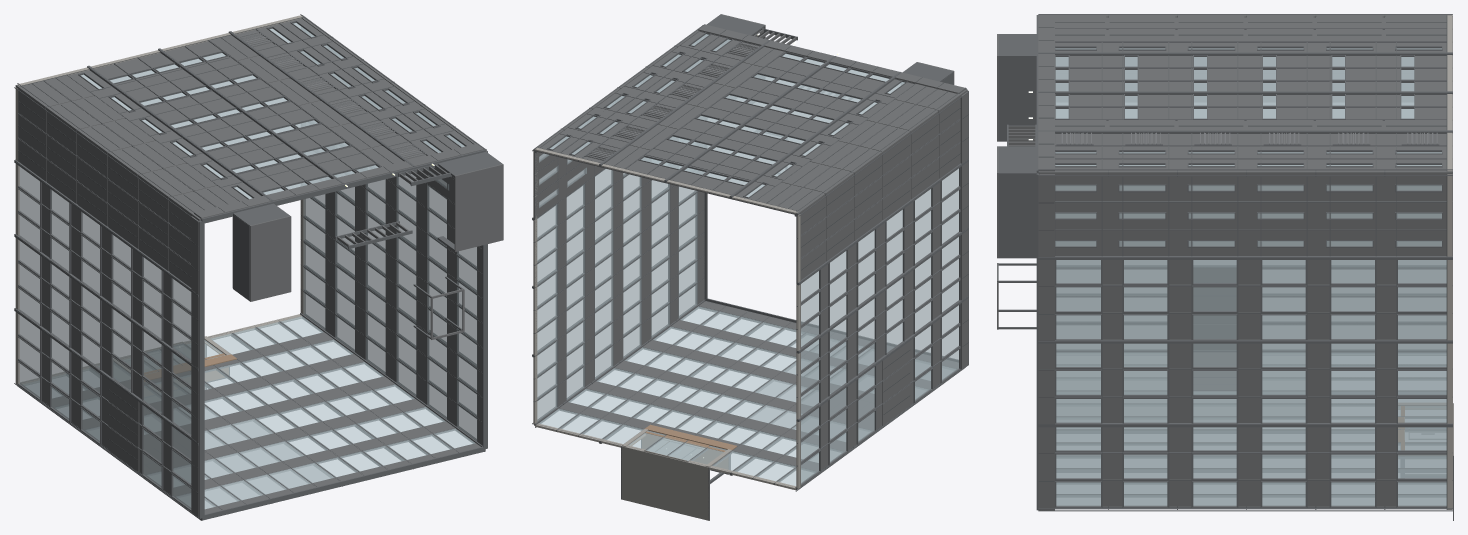
The model's file is equity-uprise-facade-core-v2.glb.
3 renders of one model, left to right at view 1: azimuth 30°, elevation 25°; view 2: azimuth 150°, elevation 25°; view 3: azimuth 270°, elevation 25°, orthographic. The views are drawn at different scales.
Parts seen in each view (by area): view 1: FAC-CROWN-HEADHOUSE-TRIM-A-01::cap, FAC-CROWN-HEADHOUSE-TRIM-B-01::cap, FAC-CROWN-BAND-FINISH-WEST-01::main, FAC-CROWN-BAND-FINISH-NORTH-01::main, FAC-PARAPET-CAP-WEST-01, FAC-PARAPET-CAP-SOUTH-01, FAC-PARAPET-CAP-NORTH-01, FAC-CROWN-HEADHOUSE-TRIM-B-01::west, FAC-BASE-PLINTH-WEST-01, FAC-PARAPET-CAP-EAST-01, FAC-CORNER-FINISH-NW-01::pier, FAC-BASE-PLINTH-NORTH-01 (+44 smaller); view 2: FAC-SITE-APRON-01, FAC-CROWN-BAND-FINISH-WEST-01::main, FAC-CROWN-BAND-FINISH-NORTH-01::main, FAC-BASE-PLINTH-WEST-01, FAC-CORNER-FINISH-NW-01::pier, FAC-BASE-PLINTH-NORTH-01, FAC-CORNER-FINISH-NE-01::pier, FAC-BASE-PLINTH-EAST-01, FAC-PRIMARY-FIN-NORTH-18, FAC-PRIMARY-FIN-NORTH-36, FAC-CROWN-HEADHOUSE-TRIM-A-01::north, FAC-WEST-F3-M11::opaque-finish-face (+40 smaller); view 3: FAC-CROWN-BAND-FINISH-EAST-01::main, FAC-CROWN-HEADHOUSE-TRIM-A-01::east, FAC-CROWN-HEADHOUSE-TRIM-B-01::east, FAC-CROWN-BAND-FINISH-NORTH-01::main, FAC-CORNER-FINISH-NE-01::pier, FAC-BASE-PLINTH-EAST-01, FAC-PRIMARY-FIN-EAST-18, FAC-PRIMARY-FIN-NORTH-18, FAC-PRIMARY-FIN-NORTH-36, FAC-PRIMARY-FIN-EAST-36, FAC-PRIMARY-FIN-EAST-54, FAC-EAST-F1-M08::vision (+180 smaller).
Part boxes in pixels (left/top/right/bottom): FAC-CROWN-HEADHOUSE-TRIM-A-01::cap: left=454, top=164, right=503, bottom=251; FAC-CROWN-HEADHOUSE-TRIM-B-01::cap: left=250, top=216, right=291, bottom=301; FAC-CROWN-BAND-FINISH-WEST-01::main: left=191, top=216, right=199, bottom=517; FAC-CROWN-BAND-FINISH-NORTH-01::main: left=194, top=143, right=484, bottom=218; FAC-PARAPET-CAP-WEST-01: left=199, top=221, right=204, bottom=518; FAC-PARAPET-CAP-SOUTH-01: left=201, top=446, right=485, bottom=520; FAC-PARAPET-CAP-NORTH-01: left=201, top=149, right=485, bottom=223; FAC-CROWN-HEADHOUSE-TRIM-B-01::west: left=232, top=214, right=249, bottom=300; FAC-BASE-PLINTH-WEST-01: left=15, top=87, right=19, bottom=384; FAC-PARAPET-CAP-EAST-01: left=482, top=151, right=487, bottom=449; FAC-CORNER-FINISH-NW-01::pier: left=15, top=84, right=201, bottom=221; FAC-BASE-PLINTH-NORTH-01: left=18, top=15, right=302, bottom=85; FAC-SITE-APRON-01: left=621, top=446, right=708, bottom=520; FAC-CROWN-BAND-FINISH-WEST-01::main: left=960, top=91, right=968, bottom=369; FAC-CROWN-BAND-FINISH-NORTH-01::main: left=698, top=24, right=965, bottom=93; FAC-BASE-PLINTH-WEST-01: left=797, top=214, right=800, bottom=488; FAC-CORNER-FINISH-NW-01::pier: left=794, top=89, right=966, bottom=216; FAC-BASE-PLINTH-NORTH-01: left=535, top=147, right=798, bottom=213; FAC-CORNER-FINISH-NE-01::pier: left=533, top=25, right=702, bottom=153; FAC-BASE-PLINTH-EAST-01: left=533, top=151, right=537, bottom=423; FAC-PRIMARY-FIN-NORTH-18: left=729, top=72, right=901, bottom=198; FAC-PRIMARY-FIN-NORTH-36: left=664, top=56, right=836, bottom=182; FAC-CROWN-HEADHOUSE-TRIM-A-01::north: left=707, top=14, right=764, bottom=35; FAC-WEST-F3-M11::opaque-finish-face: left=854, top=177, right=882, bottom=218; FAC-CROWN-BAND-FINISH-EAST-01::main: left=1038, top=174, right=1054, bottom=508; FAC-CROWN-HEADHOUSE-TRIM-A-01::east: left=998, top=173, right=1036, bottom=257; FAC-CROWN-HEADHOUSE-TRIM-B-01::east: left=998, top=57, right=1036, bottom=140; FAC-CROWN-BAND-FINISH-NORTH-01::main: left=1038, top=14, right=1054, bottom=171; FAC-CORNER-FINISH-NE-01::pier: left=1038, top=170, right=1452, bottom=176; FAC-BASE-PLINTH-EAST-01: left=1447, top=174, right=1452, bottom=508; FAC-PRIMARY-FIN-EAST-18: left=1038, top=423, right=1452, bottom=427; FAC-PRIMARY-FIN-NORTH-18: left=1038, top=52, right=1452, bottom=55; FAC-PRIMARY-FIN-NORTH-36: left=1038, top=91, right=1452, bottom=94; FAC-PRIMARY-FIN-EAST-36: left=1038, top=339, right=1452, bottom=343; FAC-PRIMARY-FIN-EAST-54: left=1038, top=256, right=1452, bottom=259; FAC-EAST-F1-M08::vision: left=1398, top=287, right=1446, bottom=311.
Bounding box in the file's own units: 22.43 × 26.47 × 27.19.
